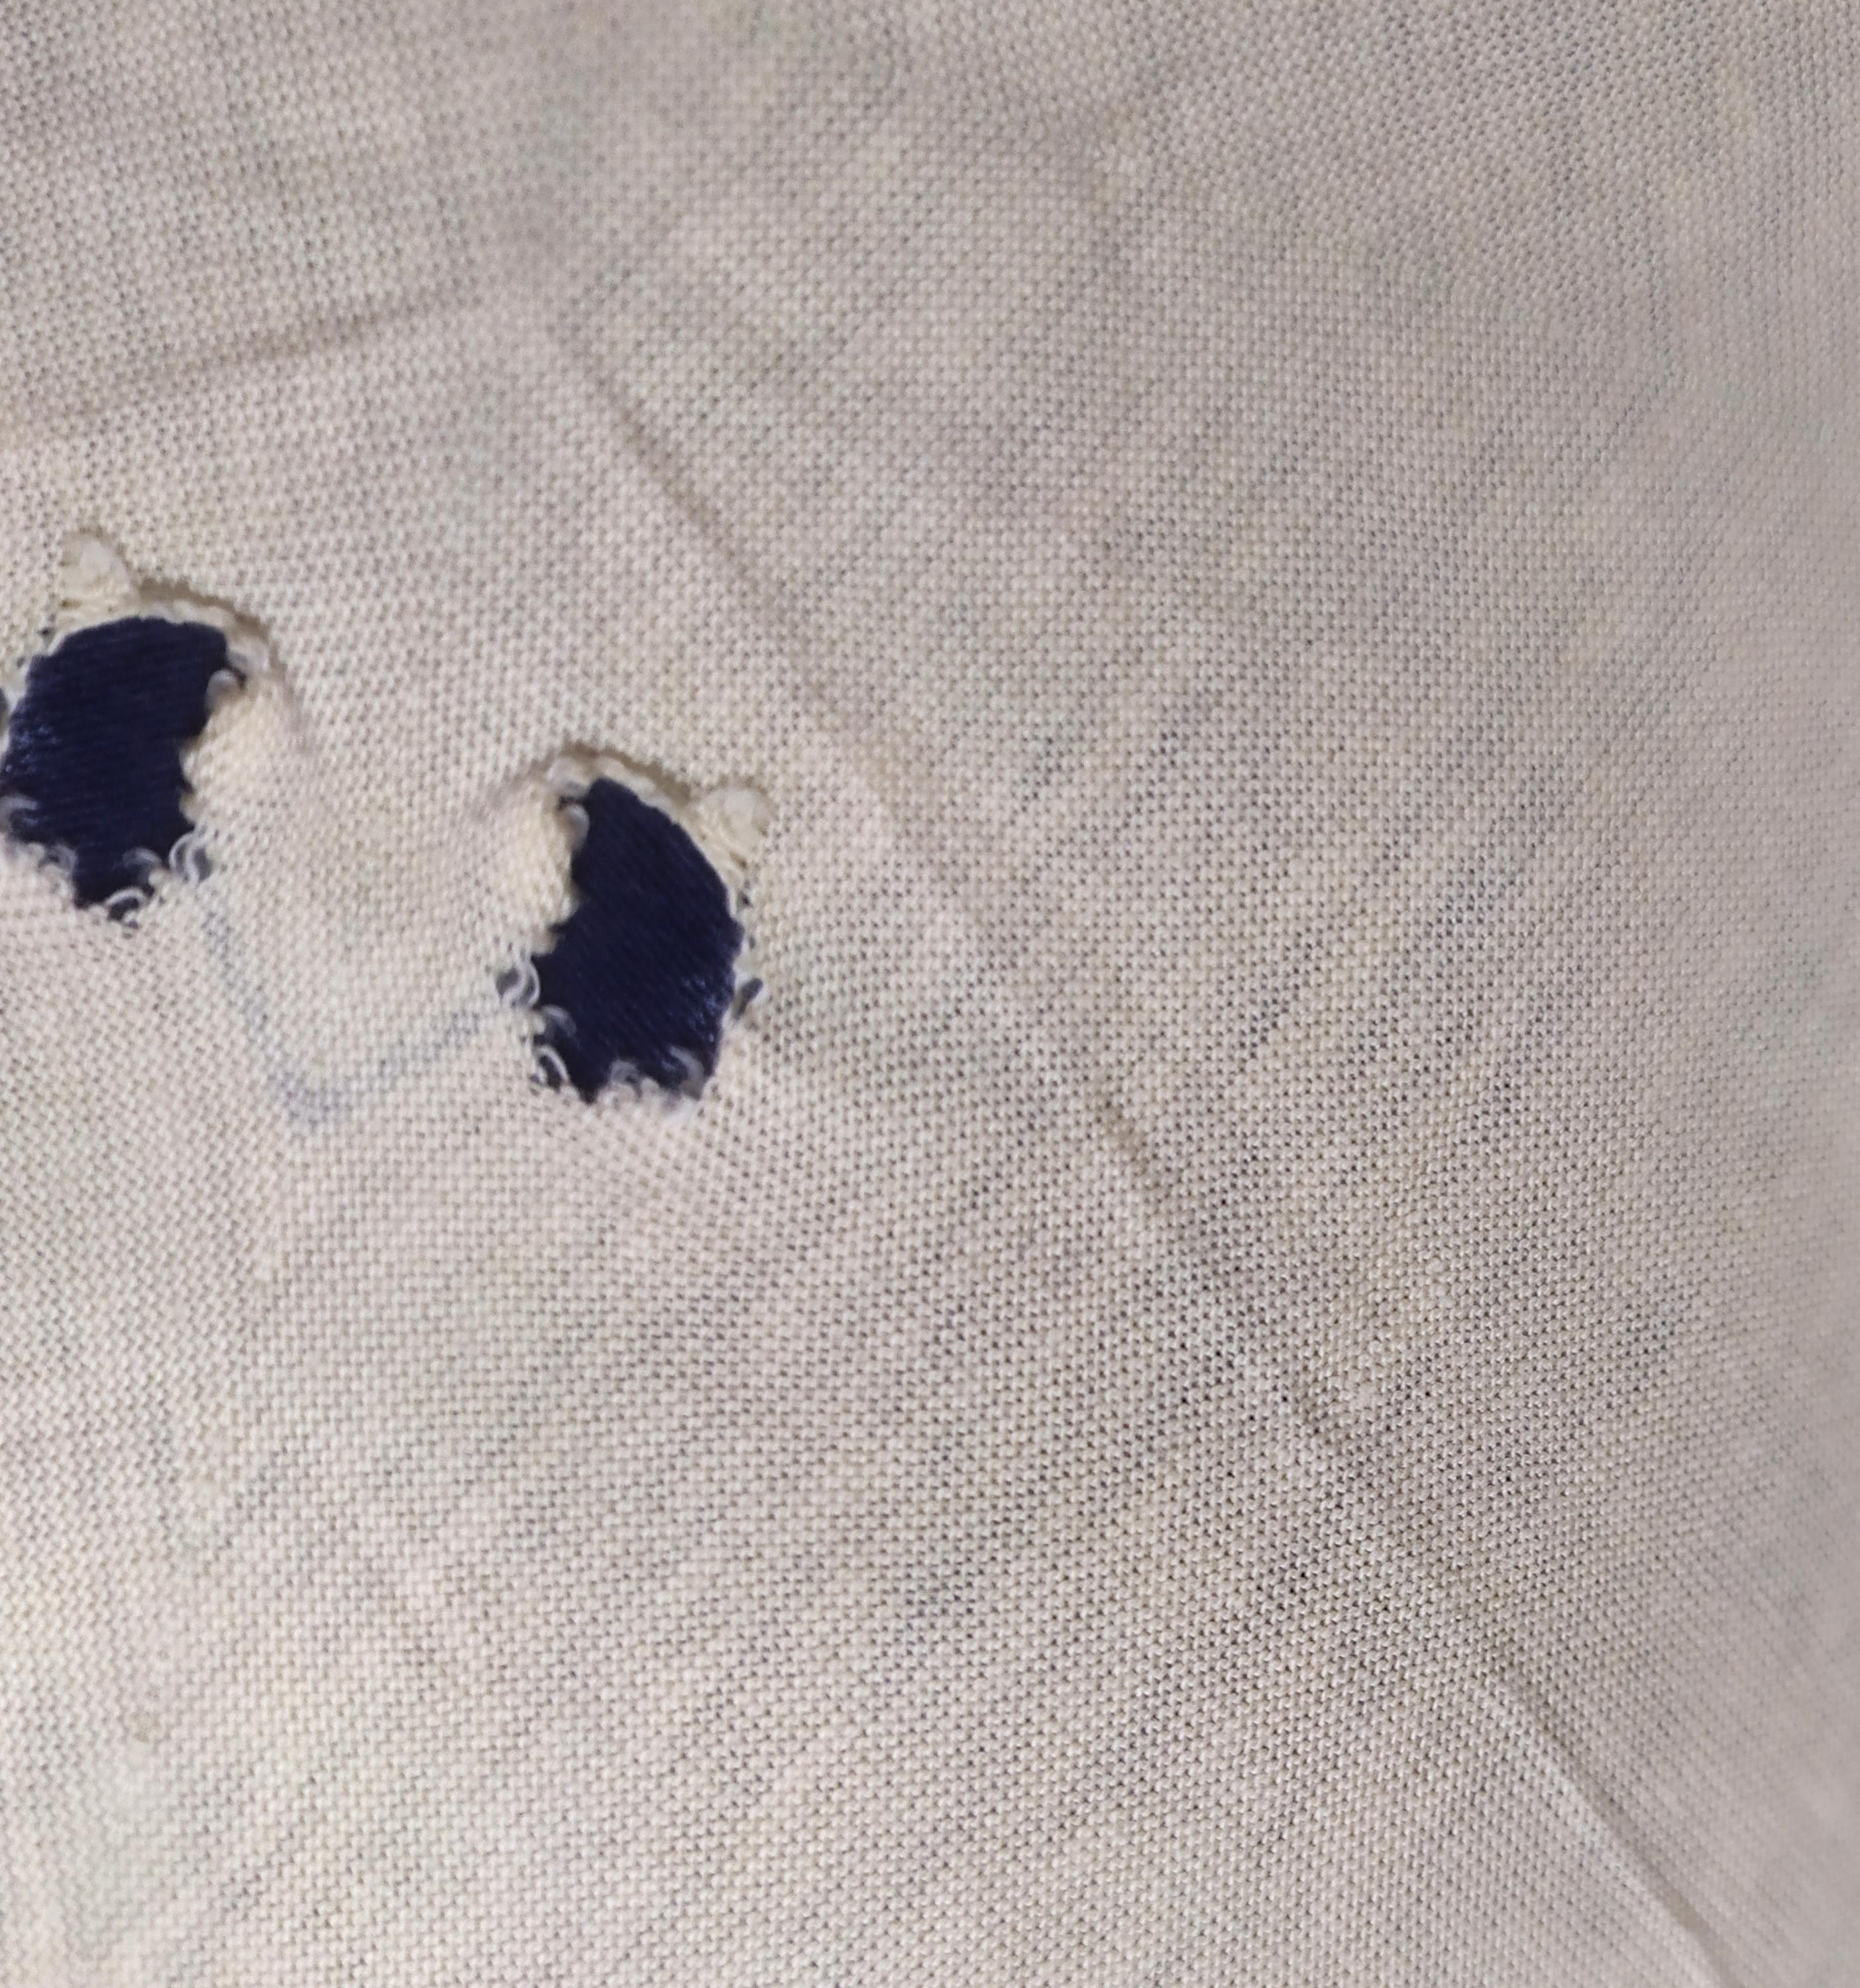hole: (456, 724, 797, 1163), (0, 535, 267, 958)
